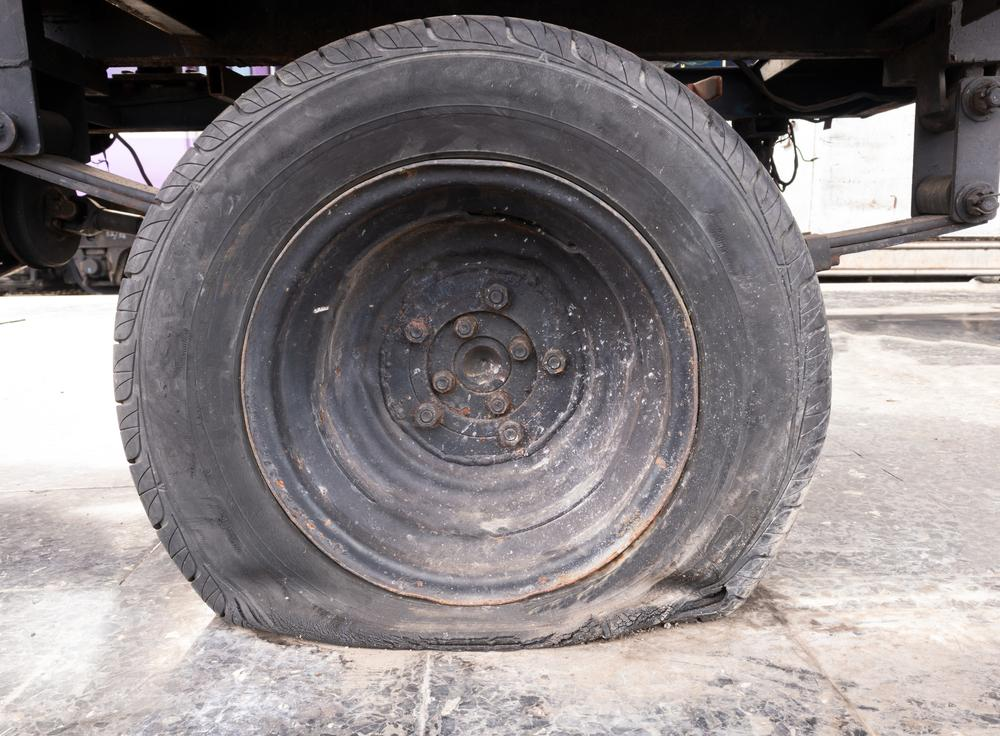tire flat: (108, 8, 831, 650)
